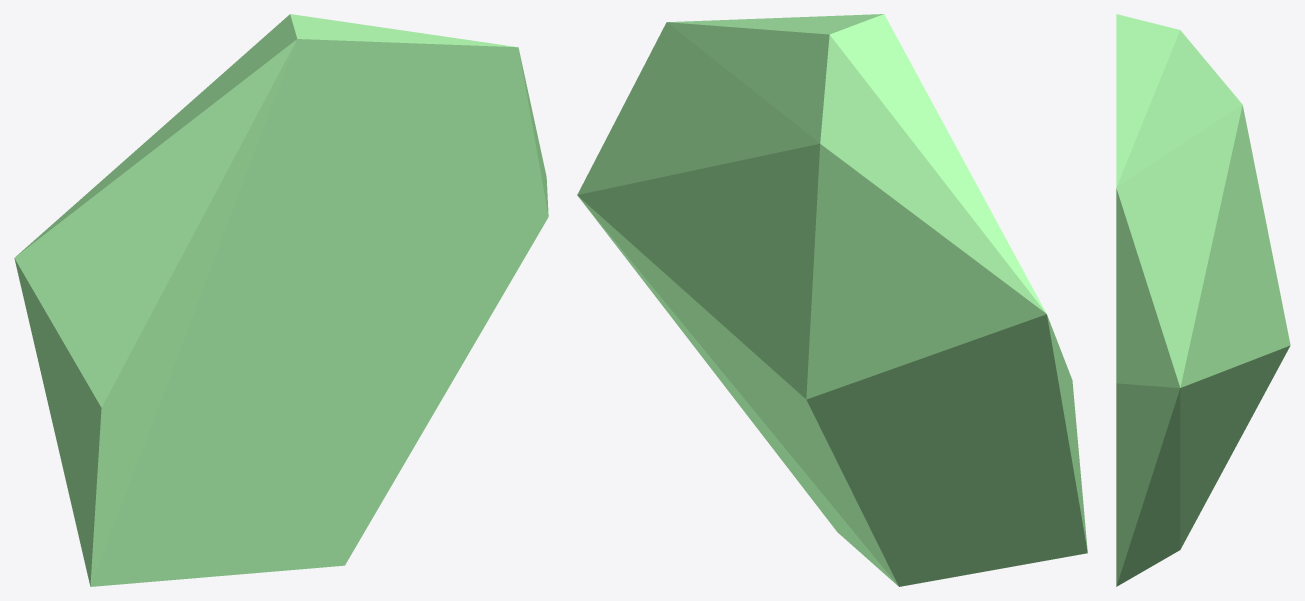
The model's file is UMIRobot_UMIRobot_link_2_convex_coll_4.dae.
3 renders of one model, left to right at view 1: azimuth 30°, elevation 25°; view 2: azimuth 150°, elevation 25°; view 3: azimuth 270°, elevation 25°, orthographic. The views are drawn at different scales.
Parts seen in each view (by area): view 1: node; view 2: node; view 3: node.
Boxes of the visible parts, x1,y1,x2,y2 form: node: (14,14,548,586); node: (577,14,1087,586); node: (1116,14,1290,586).
Size of the model in its own units: 0.0177 by 0.0183 by 0.00518.
